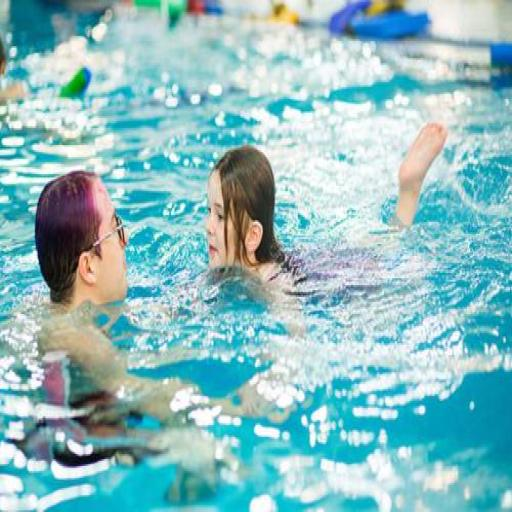swimming: (200, 116, 450, 314)
